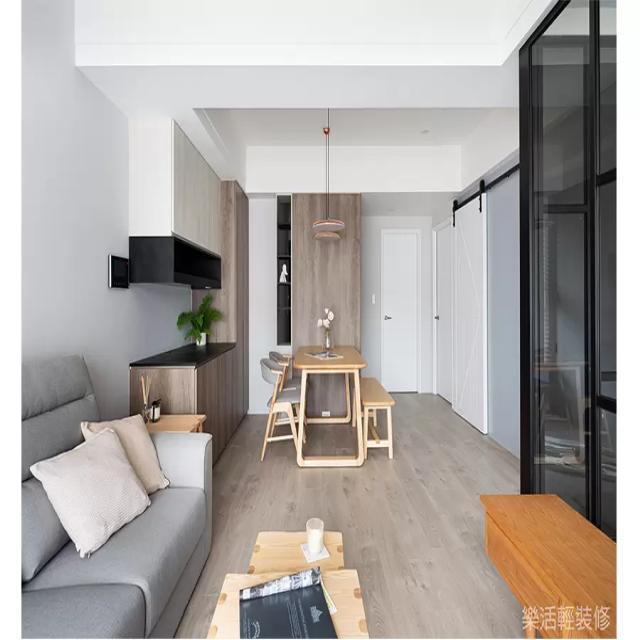table: (253, 334, 408, 474)
